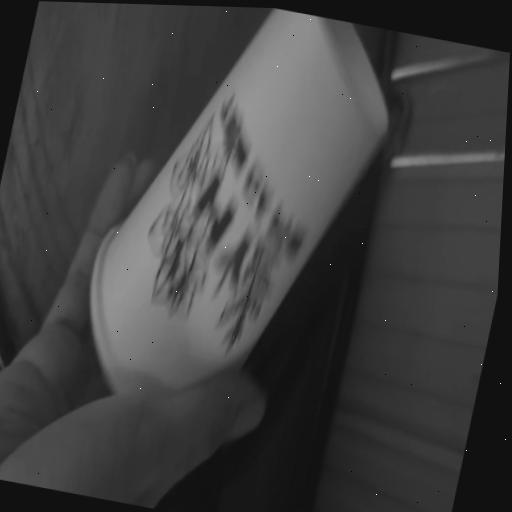Ly_giay: (89, 8, 386, 395)
